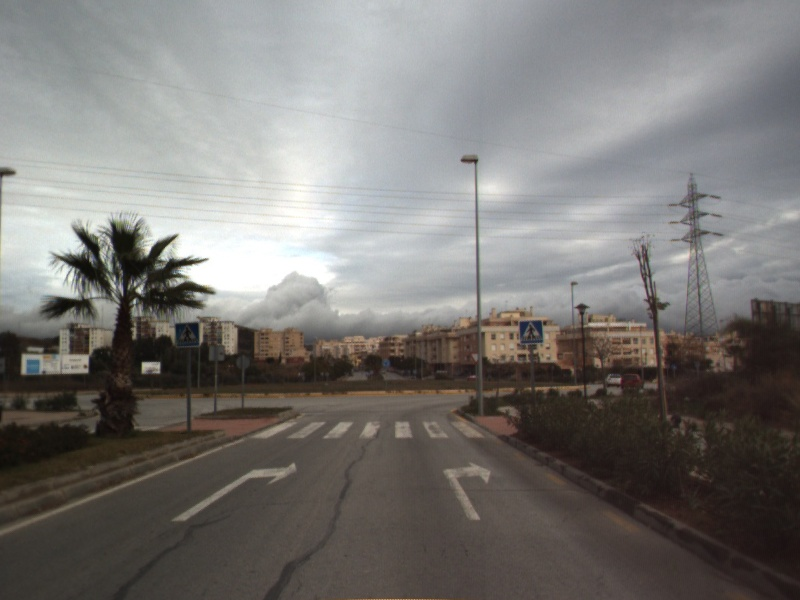RIGHT: (170, 460, 299, 523), (441, 460, 493, 522)
